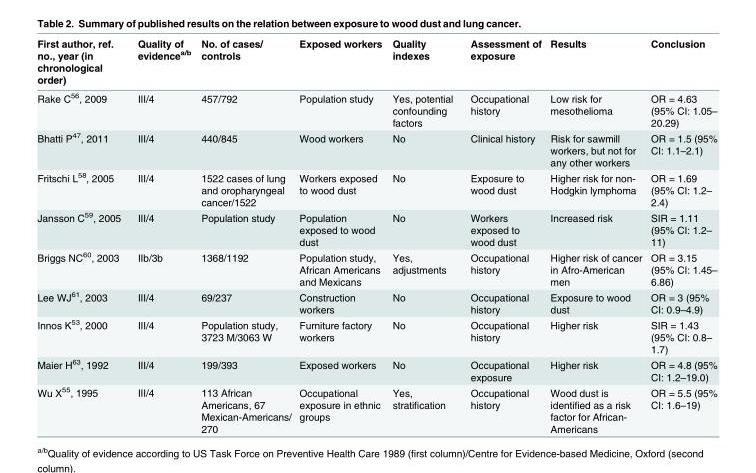table: (36, 37, 716, 434)
table column: (545, 37, 645, 434), (195, 37, 294, 434), (36, 37, 128, 434), (294, 37, 386, 434), (461, 37, 545, 434), (386, 37, 461, 434), (645, 37, 716, 434), (128, 37, 195, 434)
table column header: (36, 37, 716, 87)
table row: (36, 383, 716, 434), (36, 37, 716, 87), (36, 87, 716, 129), (36, 129, 716, 169), (36, 208, 716, 248), (36, 248, 716, 288), (36, 169, 716, 208), (36, 316, 716, 355), (36, 288, 716, 316), (36, 355, 716, 383)
